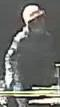helmet: (21, 4, 46, 24)
vest: (10, 32, 53, 83)
